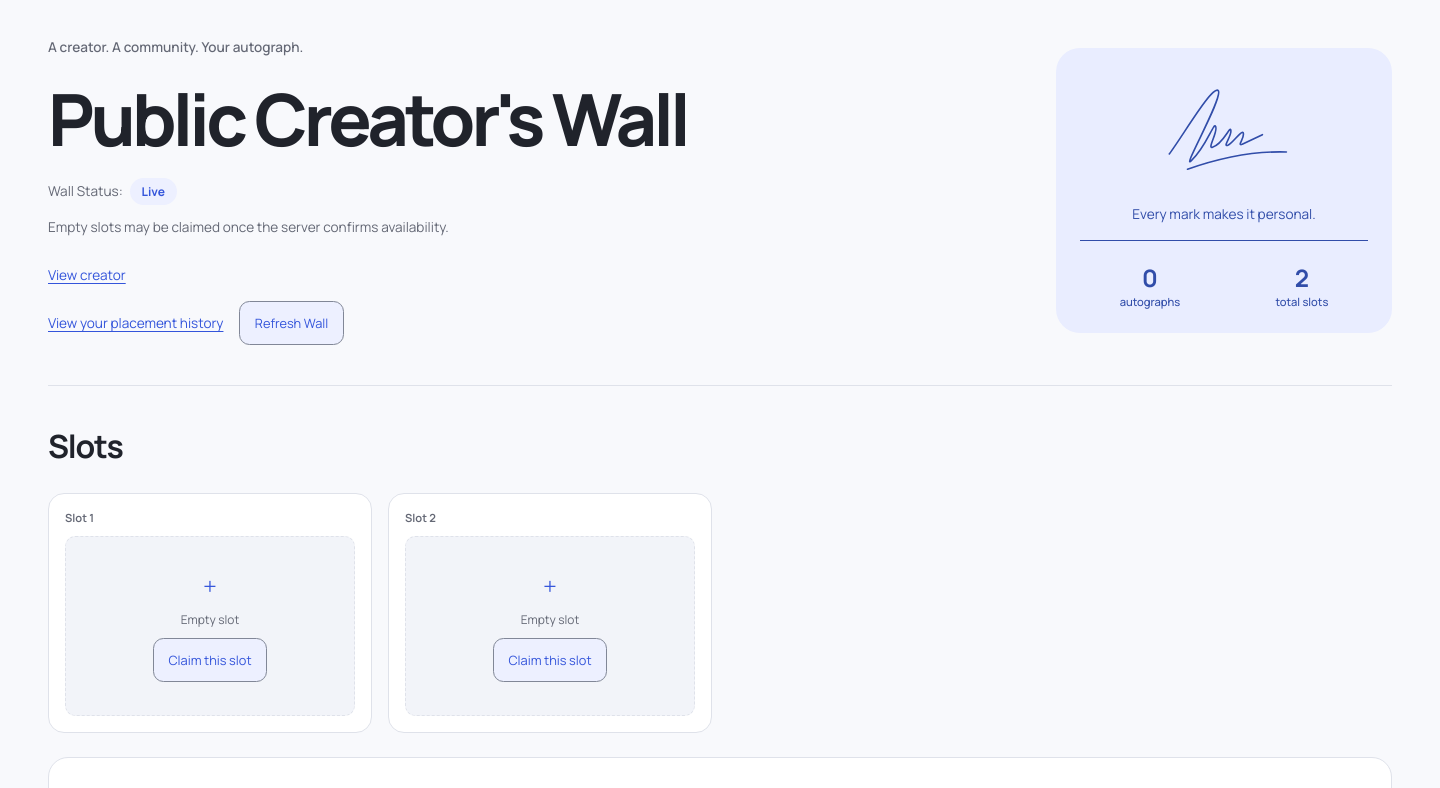
Test: public Wall and Free Claim UX › disables further attempts after FREE_CLAIM_ALREADY_USED
The width and height of the screenshot is (1440, 788).
Click the 1st button "Claim this slot" at x=210, y=660, box [153, 638, 267, 682]
(page scrolled)
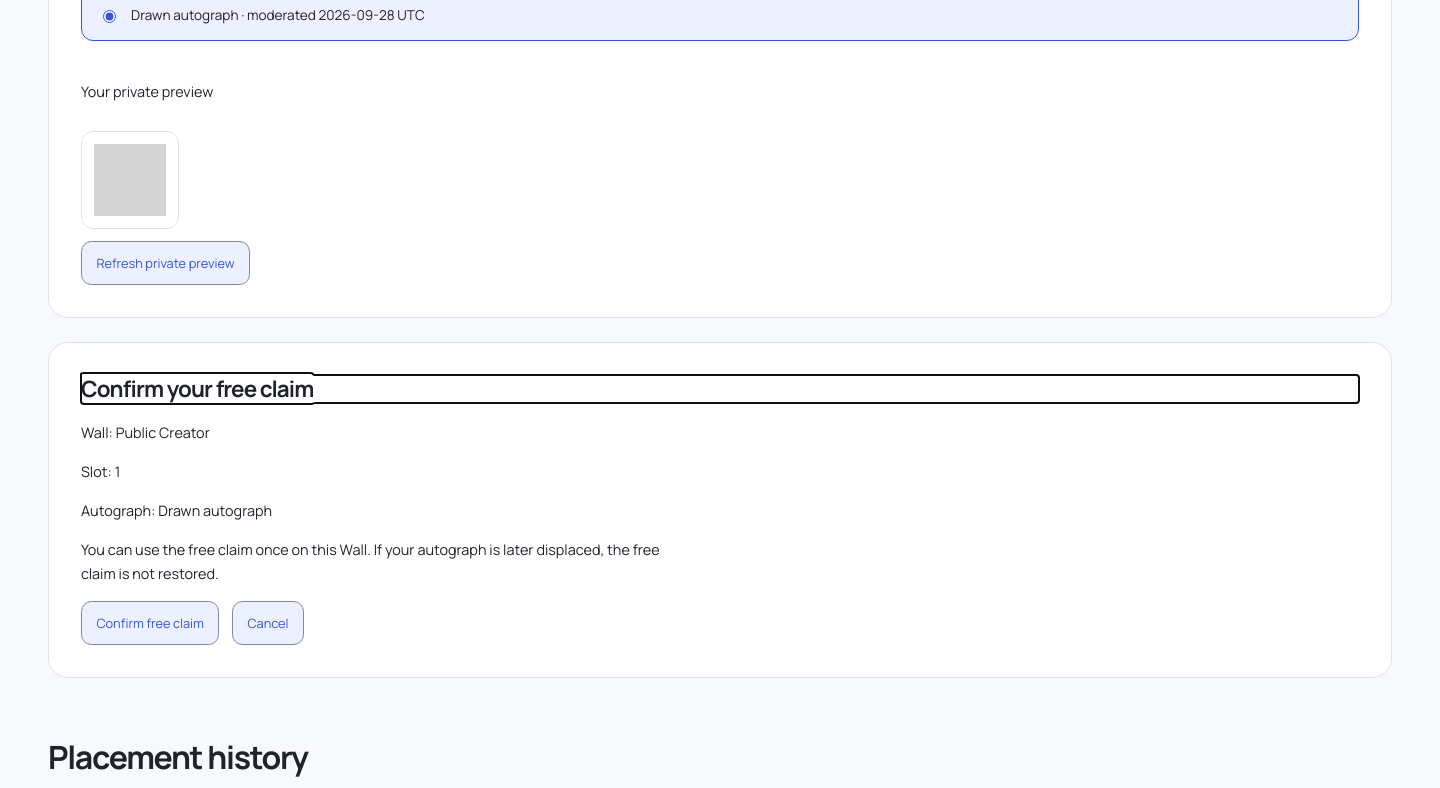
Click the button "Confirm free claim" at x=150, y=623, box [81, 601, 219, 645]
(page scrolled)
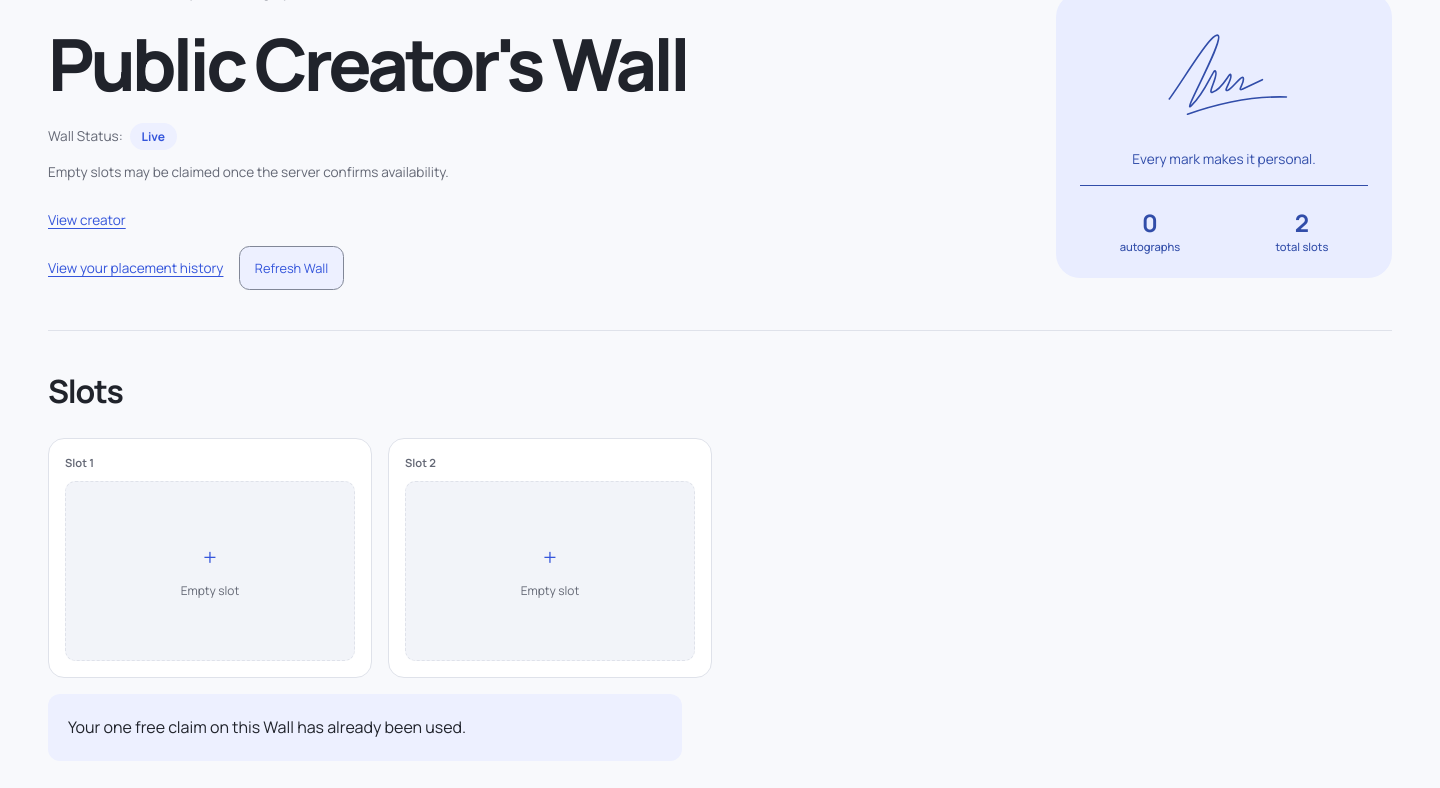
Check: the text "Your one free claim on this Wall has already been used." is shown, box [48, 694, 682, 761]
